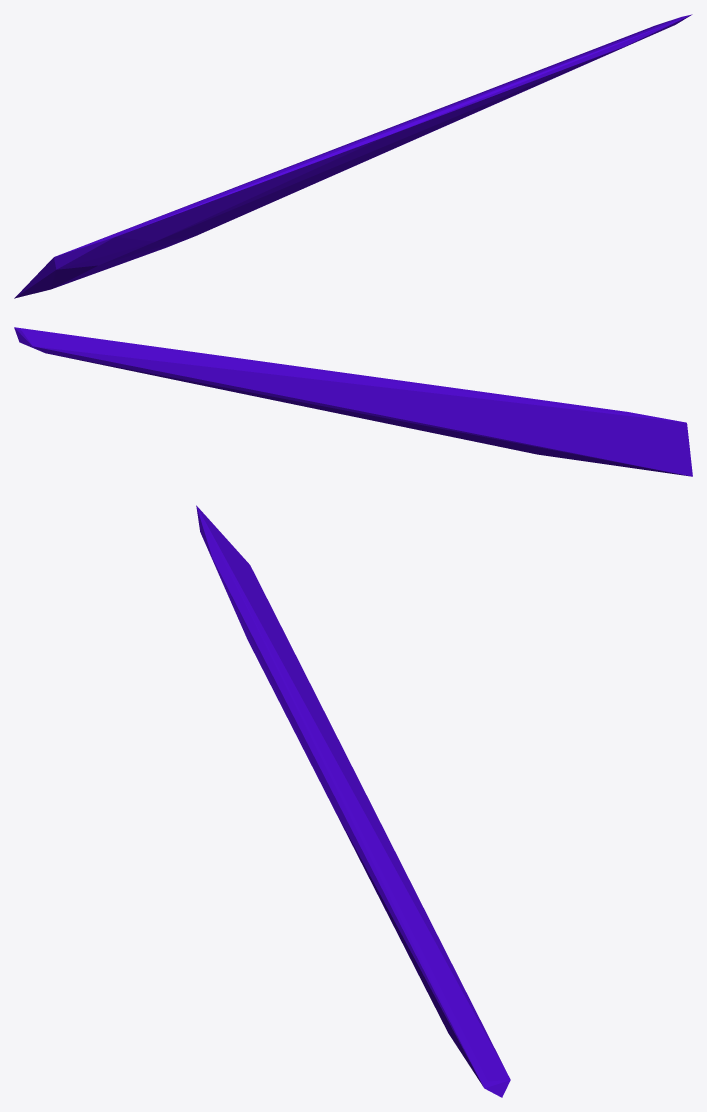
Rendered from arm-L4_convex_piece_012.obj.
3 renders of one model, top to bottom at view 1: azimuth 30°, elevation 25°; view 2: azimuth 150°, elevation 25°; view 3: azimuth 270°, elevation 25°, orthographic. The views are drawn at different scales.
Bounding box in the file's own units: 0.284 × 0.0189 × 0.0624.
